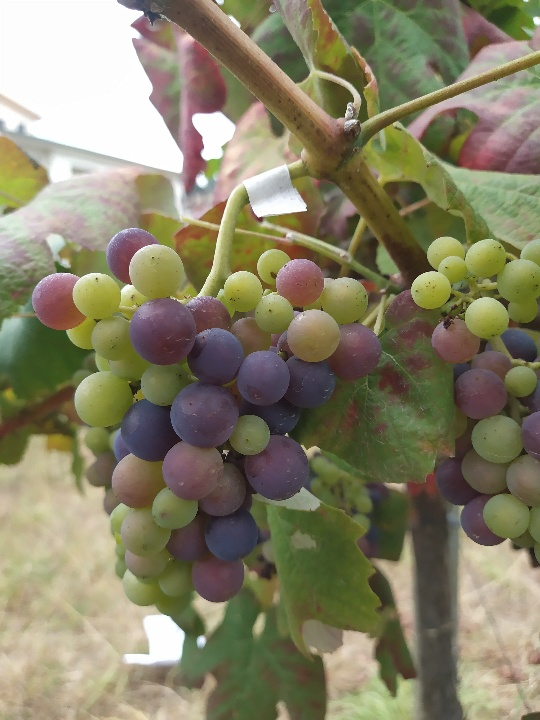grape: (24, 225, 384, 618), (408, 233, 540, 570)
